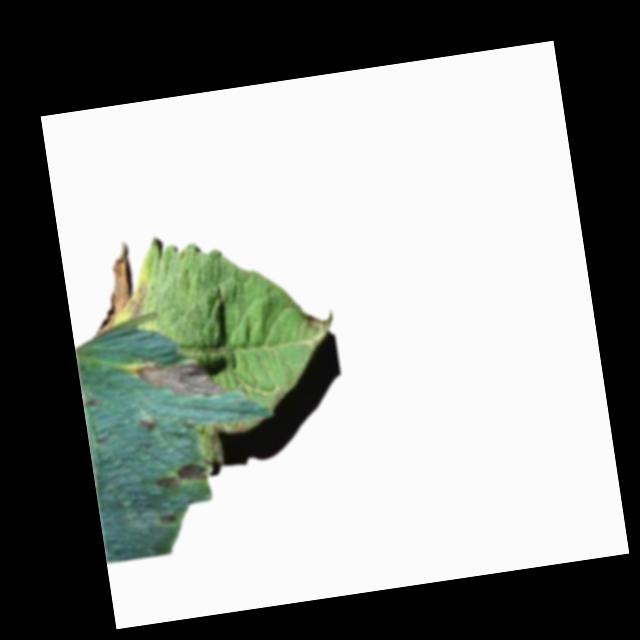Early_blight: (83, 240, 151, 339), (133, 351, 227, 409), (152, 461, 210, 489), (138, 415, 156, 434)
